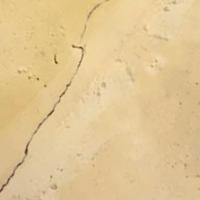crack: (0, 0, 116, 199)
